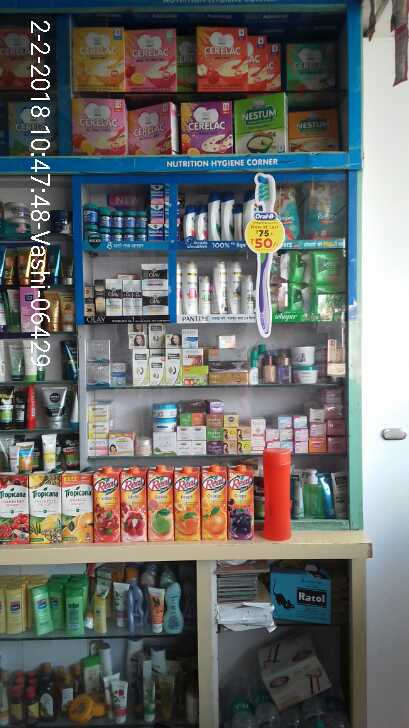beauty: (140, 263, 170, 290), (121, 279, 141, 314), (140, 291, 168, 314), (106, 278, 123, 315), (93, 278, 106, 316)
pharmacy: (305, 182, 347, 237), (84, 205, 148, 229), (311, 252, 345, 285), (183, 261, 198, 314), (227, 260, 241, 313), (219, 194, 235, 240), (98, 228, 147, 243), (213, 262, 227, 313), (208, 192, 222, 242), (197, 277, 211, 314), (195, 205, 209, 240), (241, 278, 254, 315), (182, 205, 194, 238), (147, 221, 165, 241), (150, 183, 164, 204), (151, 204, 165, 223)
